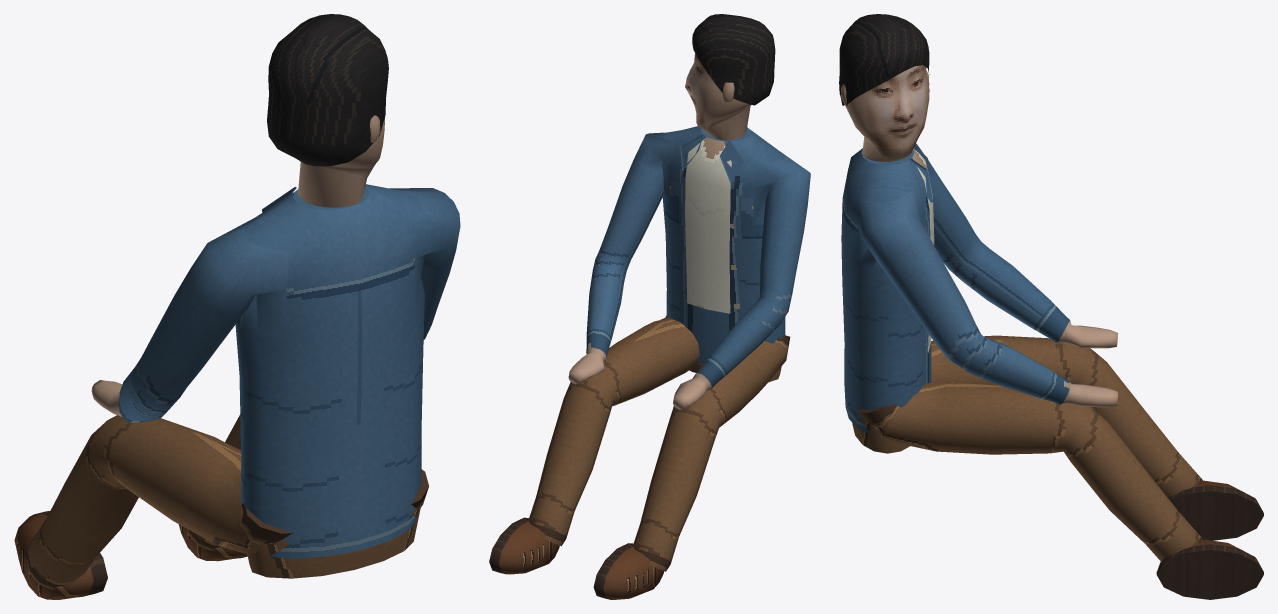
File: player_seated.glb
3 views of the same model, side by side, from view 1: azimuth 30°, elevation 25°; view 2: azimuth 150°, elevation 25°; view 3: azimuth 270°, elevation 25° (orthographic). The views are drawn at different scales.
Parts seen in each view (by area): view 1: Player / seated rear-window portrait; view 2: Player / seated rear-window portrait; view 3: Player / seated rear-window portrait.
Boxes of the visible parts, left/top/right/bottom form: Player / seated rear-window portrait: left=14, top=14, right=460, bottom=599; Player / seated rear-window portrait: left=489, top=14, right=810, bottom=599; Player / seated rear-window portrait: left=839, top=14, right=1263, bottom=599.
Size of the model in its own units: 0.5468 by 1.28 by 0.915.
Materials: 1 (1 with a texture image).
